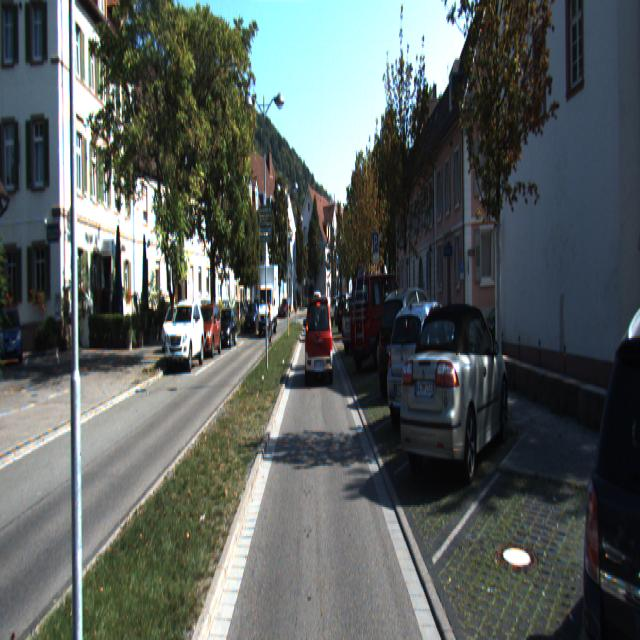Car: (398, 297, 511, 489), (582, 285, 640, 638), (384, 295, 470, 434), (377, 284, 446, 401), (166, 300, 204, 371), (342, 296, 386, 356), (306, 298, 334, 387), (194, 304, 222, 361), (1, 306, 23, 363), (334, 294, 363, 334), (162, 307, 185, 355), (216, 311, 237, 350), (244, 303, 261, 334)
DontCare: (280, 295, 290, 318)
Van: (348, 272, 408, 371), (256, 270, 279, 338)
